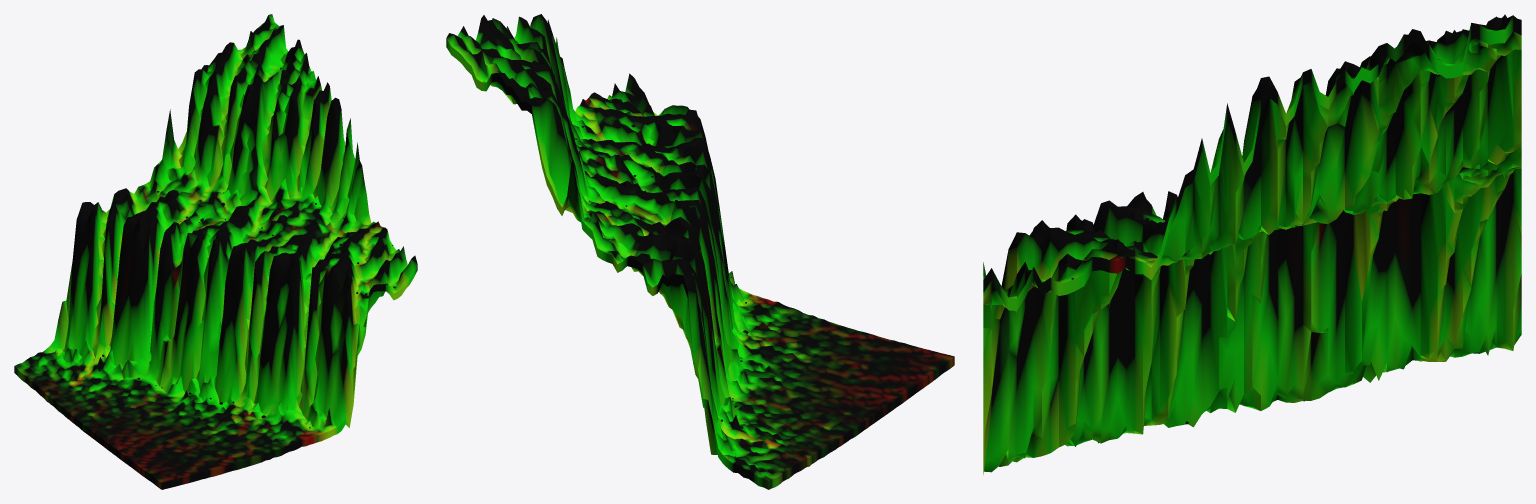
The model's file is Terrain_02_01.fbx.
3 views of the same model, side by side, from view 1: azimuth 30°, elevation 25°; view 2: azimuth 150°, elevation 25°; view 3: azimuth 270°, elevation 25° (orthographic). The views are drawn at different scales.
Parts seen in each view (by area): view 1: Terrain_02_01_LOD0; view 2: Terrain_02_01_LOD0; view 3: Terrain_02_01_LOD0.
Part boxes in pixels (x1=…): Terrain_02_01_LOD0: x1=14, y1=14, x2=417, y2=489; Terrain_02_01_LOD0: x1=446, y1=14, x2=954, y2=489; Terrain_02_01_LOD0: x1=983, y1=14, x2=1521, y2=474.
Size of what is drawn, in the model's own units: 384 by 442 by 384.
